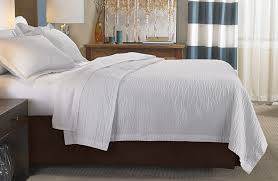bed-matress: (1, 55, 256, 142)
